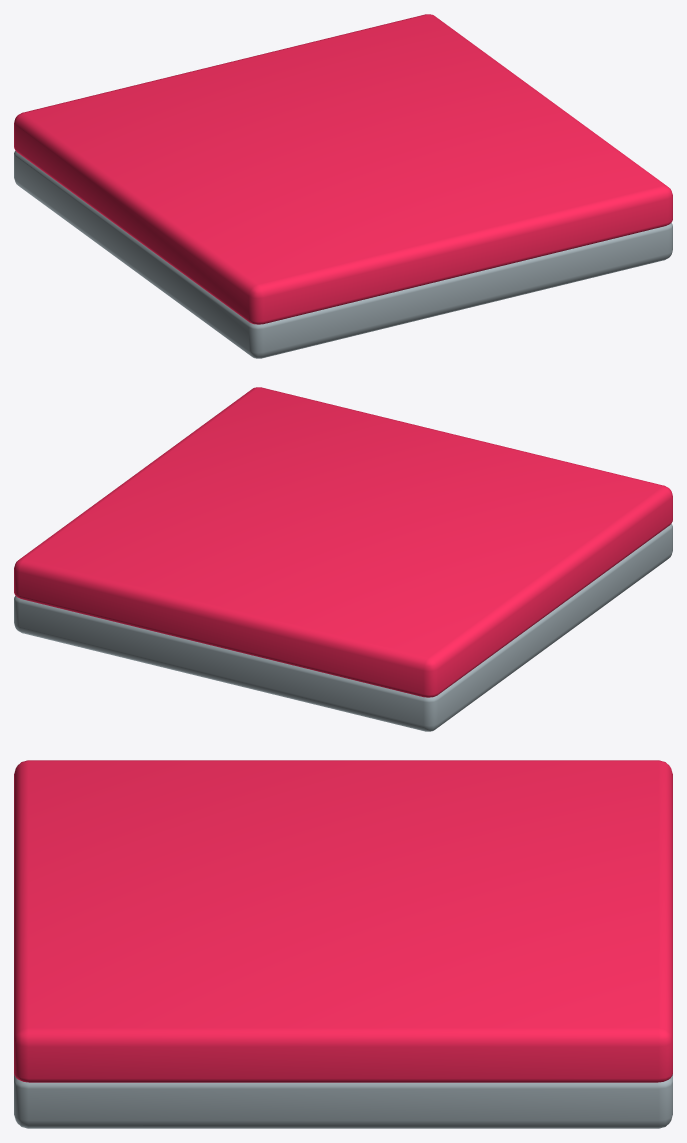
The model's file is tileLarge_teamRed-col.glb.
3 renders of one model, top to bottom at view 1: azimuth 30°, elevation 25°; view 2: azimuth 150°, elevation 25°; view 3: azimuth 270°, elevation 25°, orthographic. The views are drawn at different scales.
Parts seen in each view (by area): view 1: tileLarge_teamRed-col; view 2: tileLarge_teamRed-col; view 3: tileLarge_teamRed-col.
Part boxes in pixels (left/top/right/bottom): tileLarge_teamRed-col: left=14, top=14, right=672, bottom=358; tileLarge_teamRed-col: left=14, top=387, right=672, bottom=731; tileLarge_teamRed-col: left=14, top=760, right=672, bottom=1128.
Size of the model in its own units: 6 by 1 by 6.
